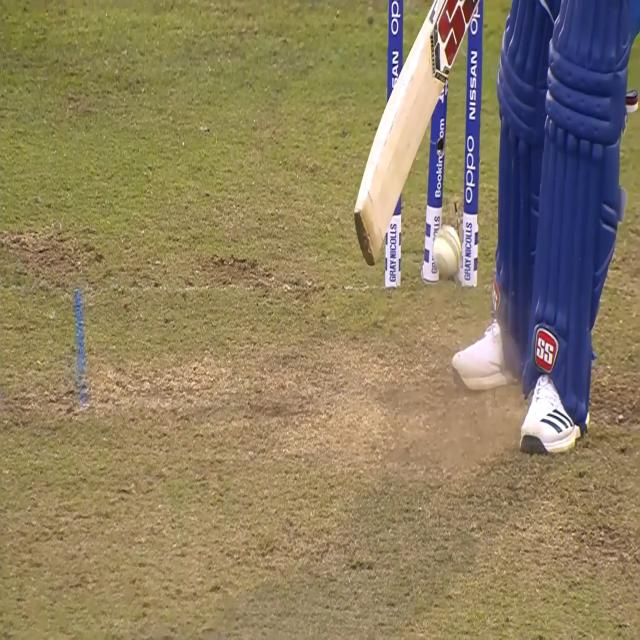ball: (433, 222, 462, 280)
